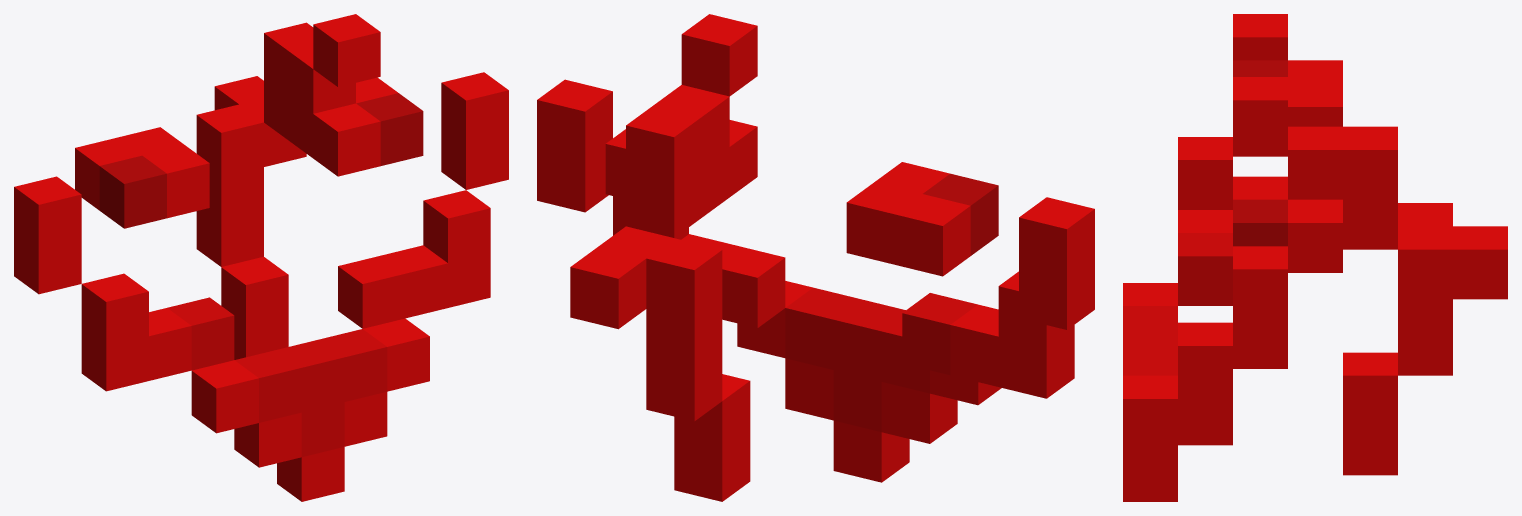
The model's file is cabeca-0.obj.
3 renders of one model, left to right at view 1: azimuth 30°, elevation 25°; view 2: azimuth 150°, elevation 25°; view 3: azimuth 270°, elevation 25°, orthographic. The views are drawn at different scales.
Size of the model in its own units: 1.1 by 0.9 by 0.7.
1 material, 1 textured.
